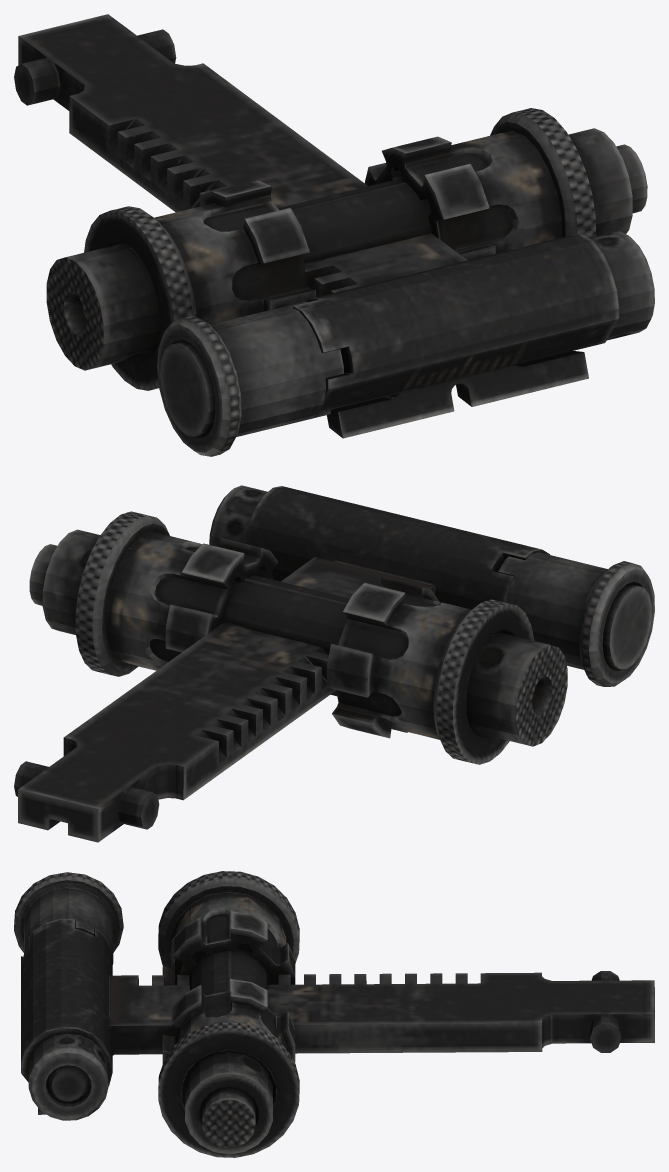
3 views of the same model, one above another, from view 1: azimuth 30°, elevation 25°; view 2: azimuth 150°, elevation 25°; view 3: azimuth 270°, elevation 25° (orthographic). The views are drawn at different scales.
Parts seen in each view (by area): view 1: TW_5a0eb980fcdbcb001a3b00a6_PZ_Import; view 2: TW_5a0eb980fcdbcb001a3b00a6_PZ_Import; view 3: TW_5a0eb980fcdbcb001a3b00a6_PZ_Import.
Part boxes in pixels (x1=…): TW_5a0eb980fcdbcb001a3b00a6_PZ_Import: x1=14, y1=14, x2=654, y2=456; TW_5a0eb980fcdbcb001a3b00a6_PZ_Import: x1=14, y1=485, x2=654, y2=842; TW_5a0eb980fcdbcb001a3b00a6_PZ_Import: x1=14, y1=871, x2=654, y2=1157.
Bounding box in the file's own units: 0.0288 × 0.0374 × 0.00825.
Materials: 1 (1 with a texture image).
